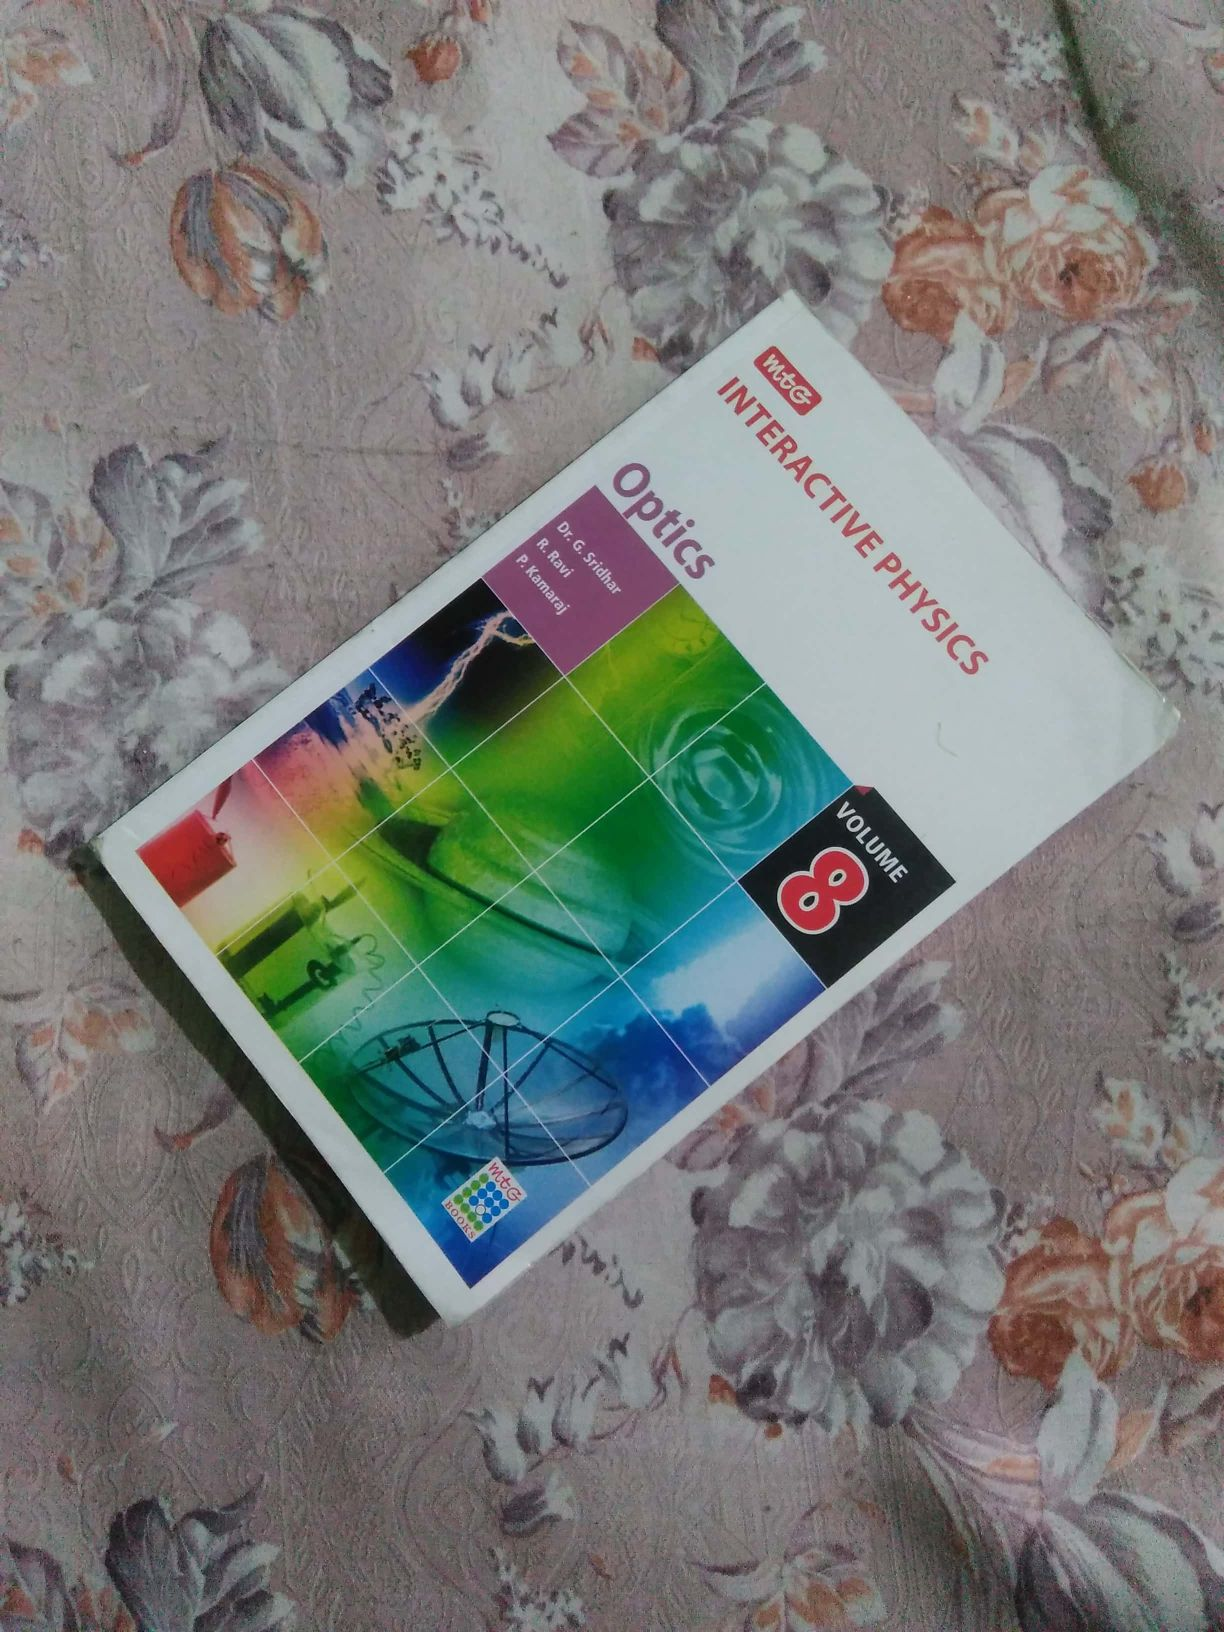optics: (131, 348, 1146, 1291)
